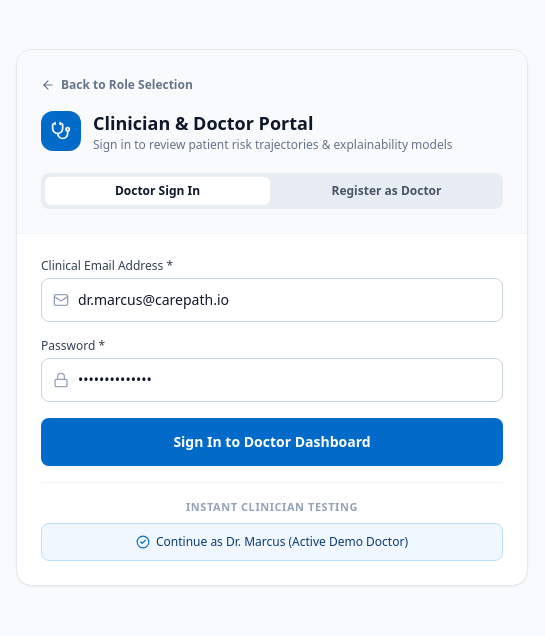
Test: DoctorAuthPage › displays rejected error message when logging in with a rejected account
Click the button "Sign In to Doctor Dashboard": coordinates (272, 442) [41,418,503,466]
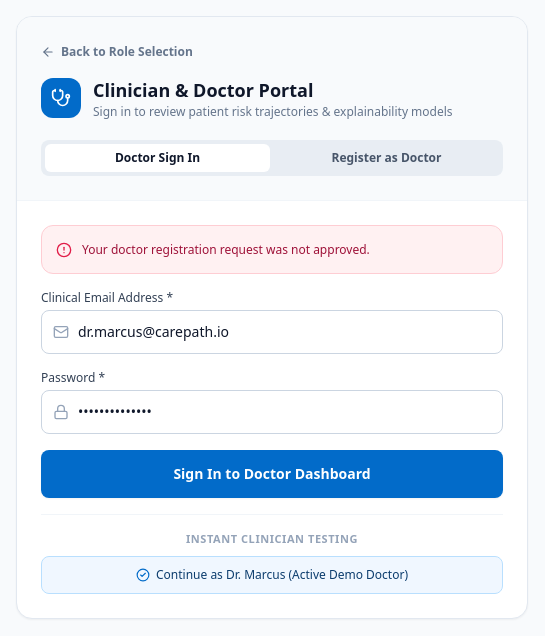
expect the text "Your doctor registration request was not approved." is shown: met, box [82,240,370,259]
